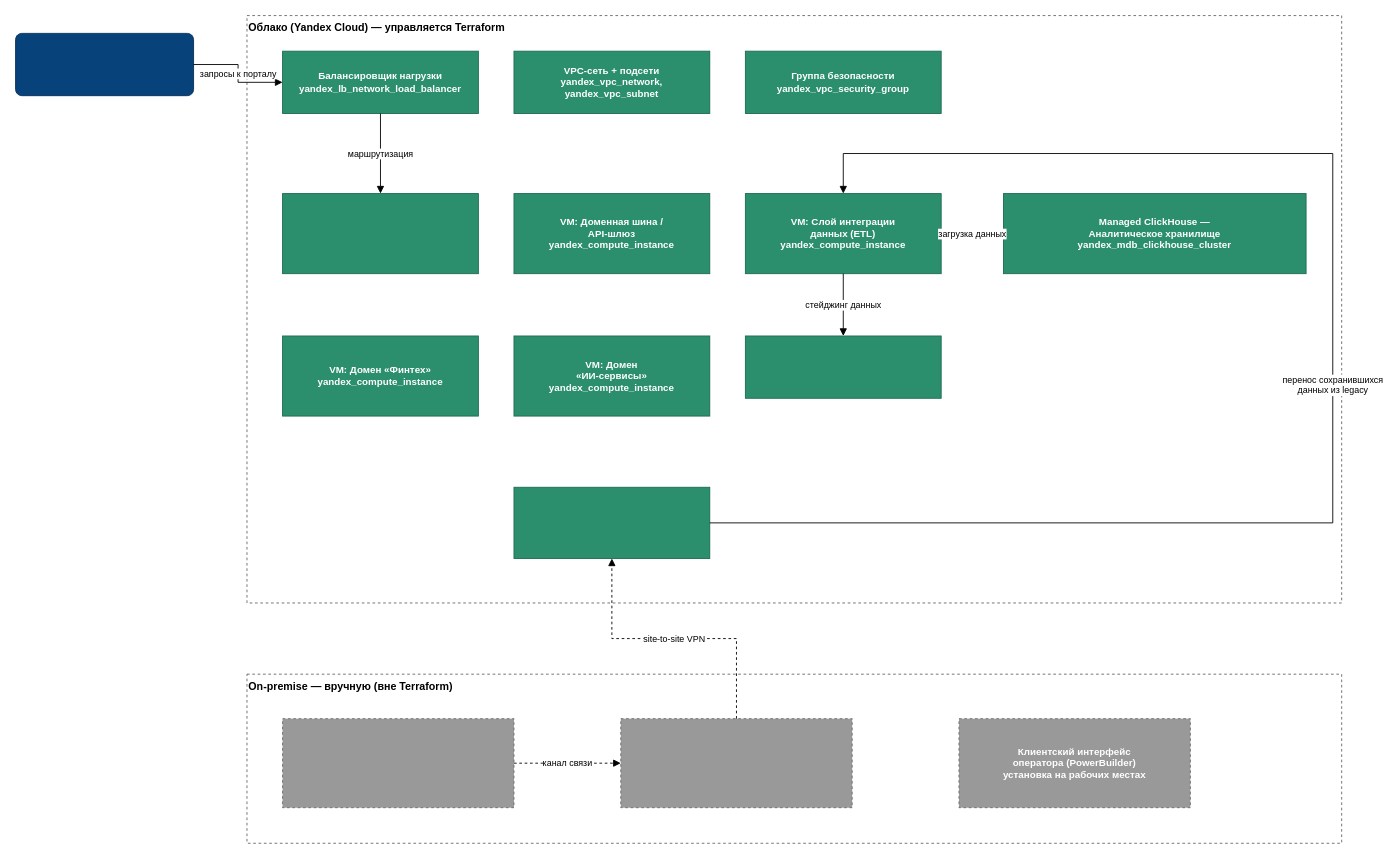
Some shapes in this 1398 by 859 pixel diagram are drawn without their labels. The box of each missing label's shape, as (x1, y1, x2, y2) in pixels:
Legacy DWH (SQL Server 2008) существующее оборудование, домен «Клиника»: (282, 718, 514, 808)
VM: VPN-шлюз (WireGuard/StrongSwan) yandex_compute_instance: (513, 486, 710, 558)
VM: Портал самообслуживания yandex_compute_instance: (282, 193, 478, 274)
Бизнес-пользователь: (15, 32, 194, 96)
Диск для ETL-стейджинга yandex_compute_disk: (744, 335, 941, 398)
Физический канал связи / согласование с провайдером (ISP-провижининг): (620, 718, 852, 808)
